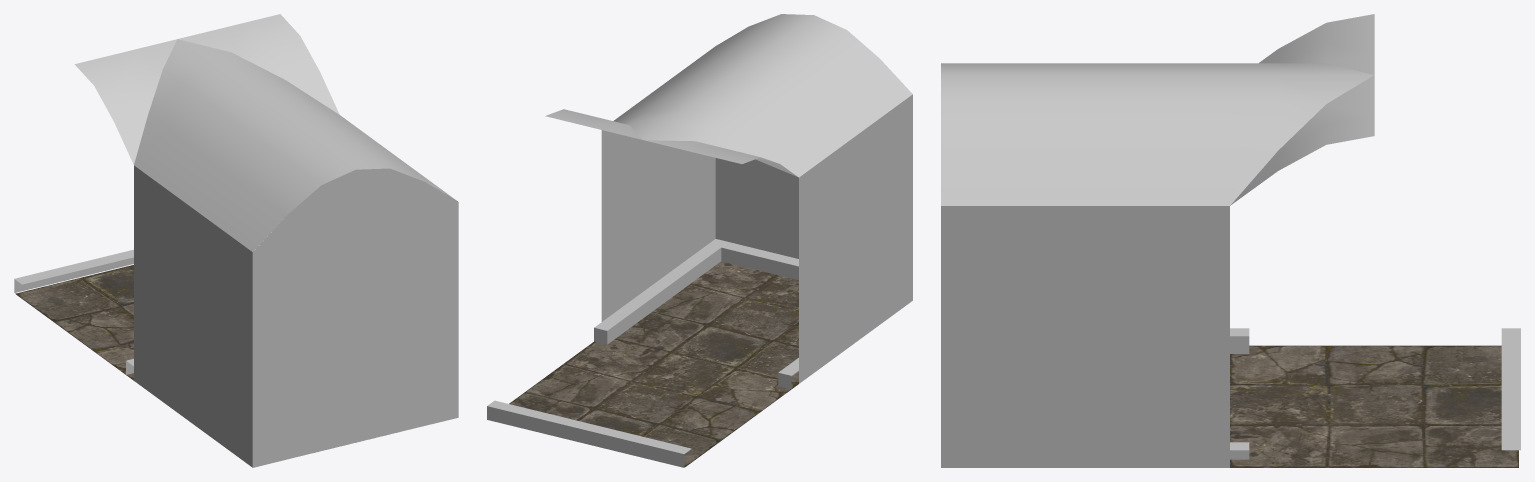
File: HallwayRoom.FBX
3 renders of one model, left to right at view 1: azimuth 30°, elevation 25°; view 2: azimuth 150°, elevation 25°; view 3: azimuth 270°, elevation 25°, orthographic. The views are drawn at different scales.
Visible parts, largest first — view 1: HallwayRoom; view 2: HallwayRoom; view 3: HallwayRoom.
Boxes of the visible parts, box(x1,y1,x2,y2) form: HallwayRoom: box(14, 14, 458, 467); HallwayRoom: box(487, 14, 912, 467); HallwayRoom: box(941, 14, 1520, 467).
Bounding box in the file's own units: 750 × 950 × 1505.
